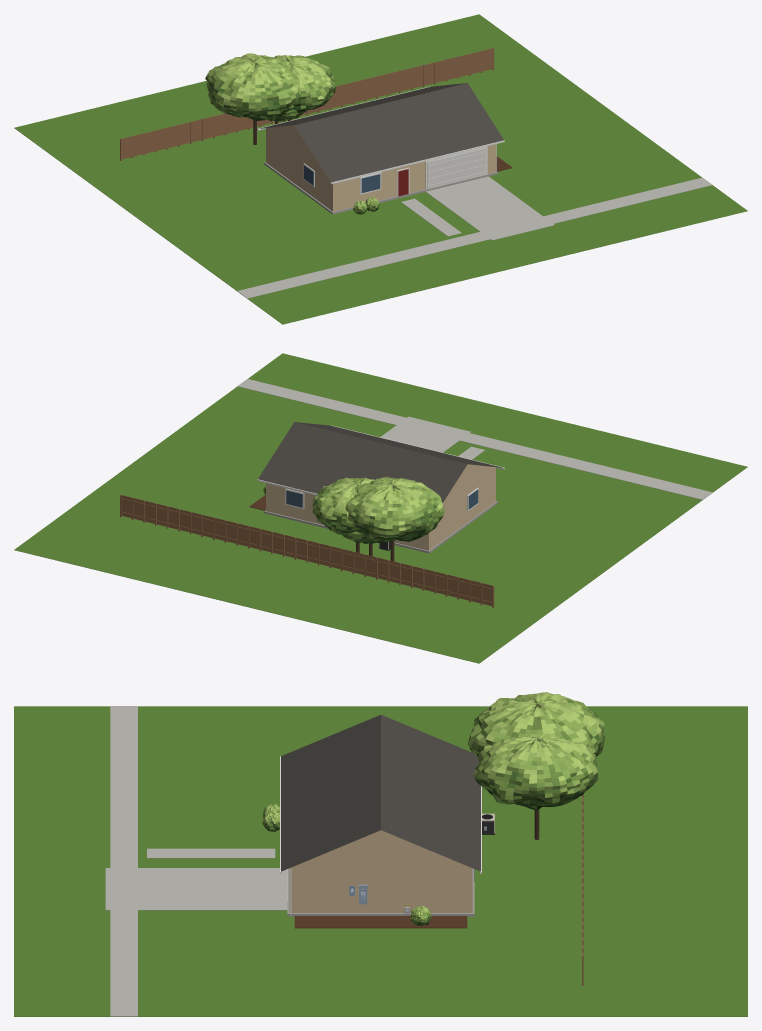
Rendered from home_09_pre_install.obj.
The picture shows the model from 3 angles, top to bottom: view 1: azimuth 30°, elevation 25°; view 2: azimuth 150°, elevation 25°; view 3: azimuth 270°, elevation 25°; orthographic projection. The views are drawn at different scales.
Visible parts, largest first — view 1: yard, house, tree_3, tree_1; view 2: yard, house, tree_3, tree_1; view 3: yard, house, tree_1, tree_3, mulch_bed_side.
Part boxes in pixels (box(x1,y1,x2,y2)): yard: box(14, 14, 747, 324); house: box(257, 83, 504, 214); tree_3: box(205, 53, 299, 144); tree_1: box(269, 55, 336, 120); yard: box(14, 353, 747, 663); house: box(257, 422, 504, 553); tree_3: box(345, 476, 444, 561); tree_1: box(312, 477, 374, 552); yard: box(14, 706, 747, 1016); house: box(280, 714, 481, 916); tree_1: box(473, 734, 598, 839); tree_3: box(467, 692, 604, 756); mulch_bed_side: box(294, 916, 467, 928).
Bounding box in the file's own units: 40 × 6.88 × 40.
